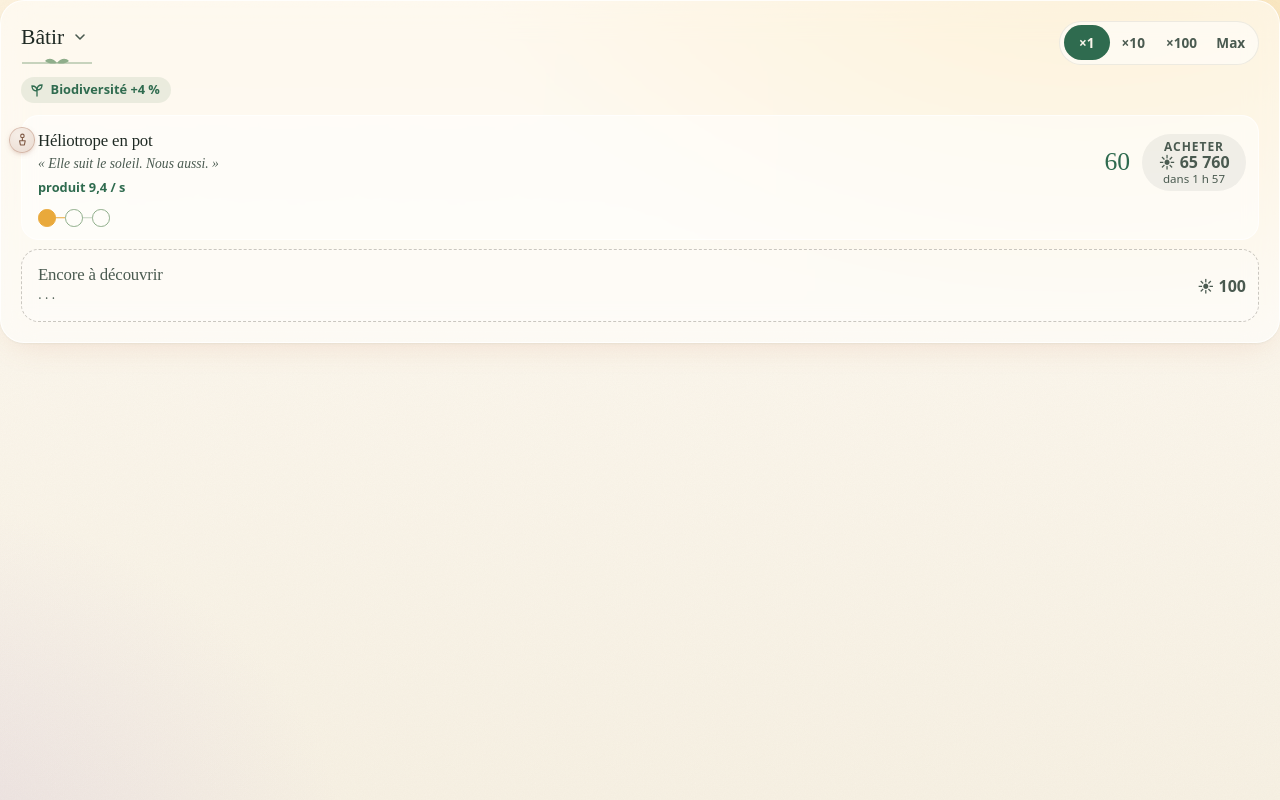
it: a growth path that cannot change yet › says why on a tap instead of ignoring it, and keeps the path
The width and height of the screenshot is (1280, 800).
Step 1. Click the button named "Jardinière fleurie, dès 50" → x=47, y=218, box [38,209,56,227]
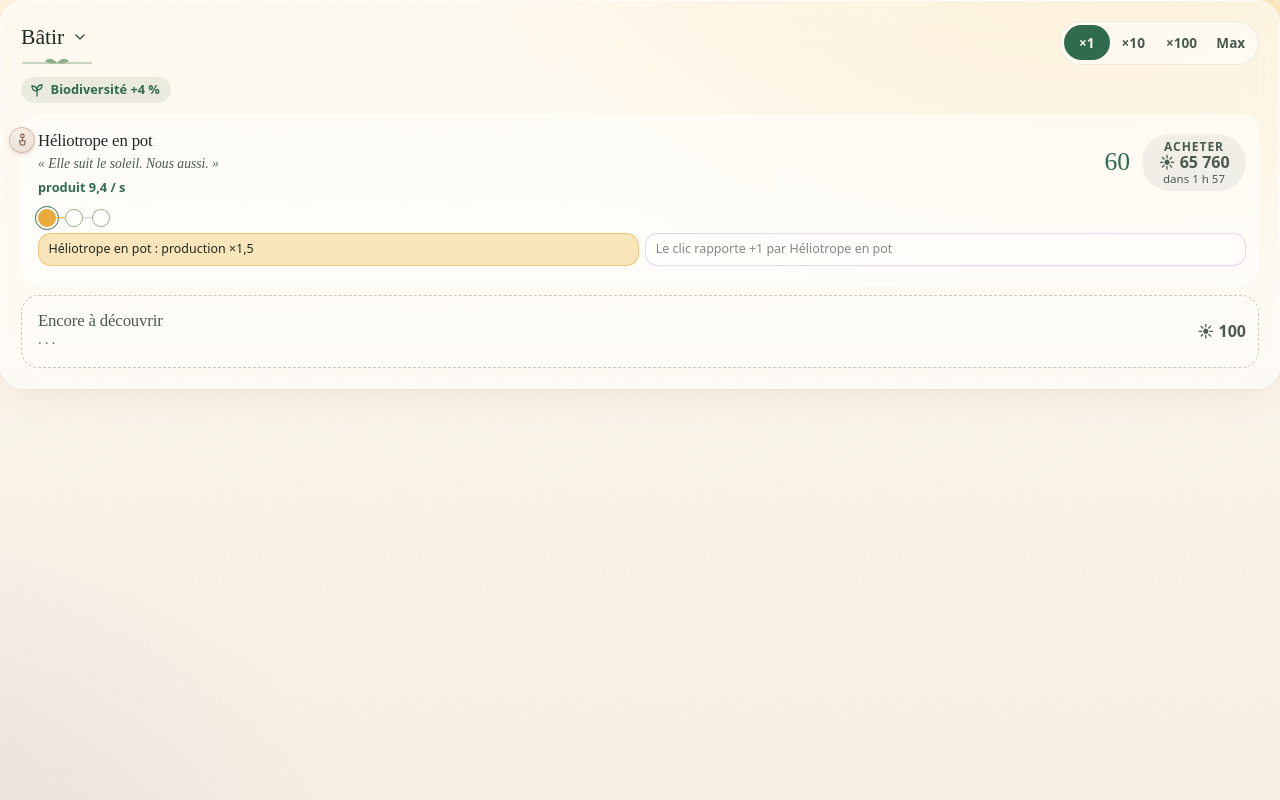
expect the element with class "growth-locked-note" is empty: met, box [38,266,1246,272]
Step 2. Click the 2nd button with class "growth-path" → x=774, y=249, box [645,233,1246,266]
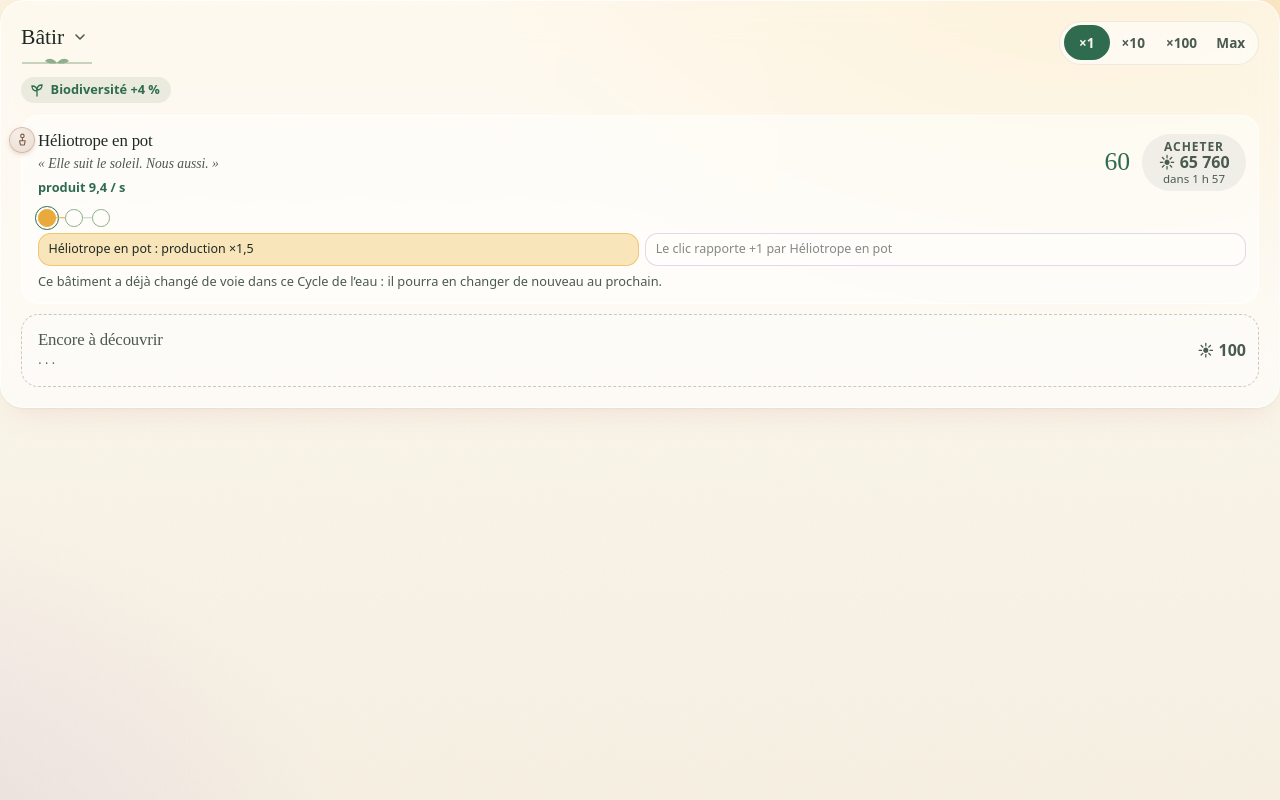
expect the text with class "growth-locked-note" shows "déjà changé de voie dans ce Cycle": met, box [38,272,662,290]
